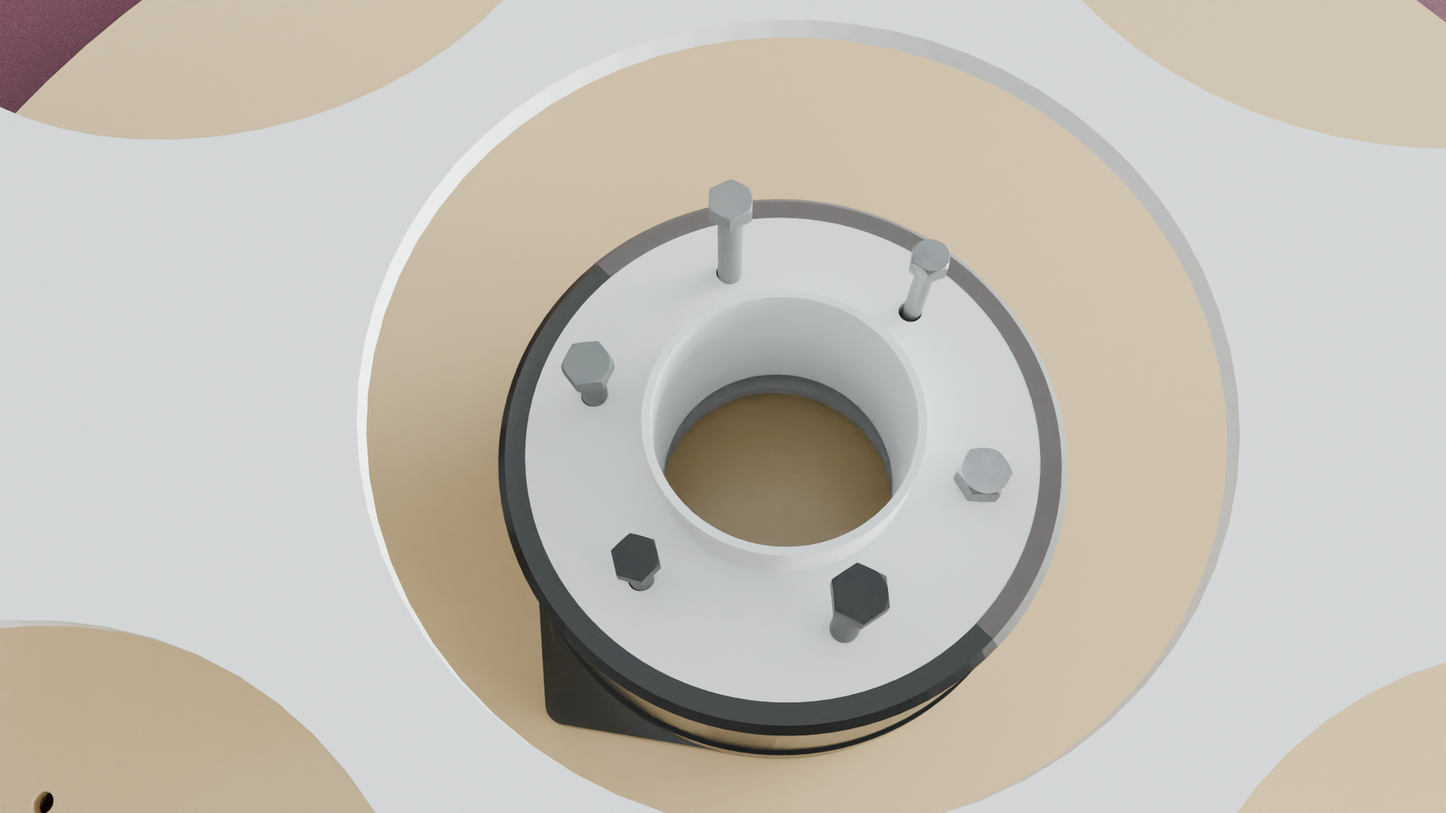bolt: (831, 562, 890, 625), (957, 448, 1013, 496), (611, 533, 660, 582), (561, 341, 613, 385), (709, 179, 752, 222), (911, 239, 950, 276)
